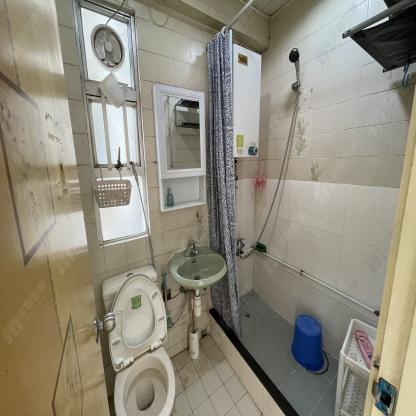Exhaust Fan: (89, 22, 124, 70)
Toilet: (101, 265, 177, 416)
Toilet Sink: (168, 245, 228, 291)
Water Heater: (232, 43, 264, 160)
